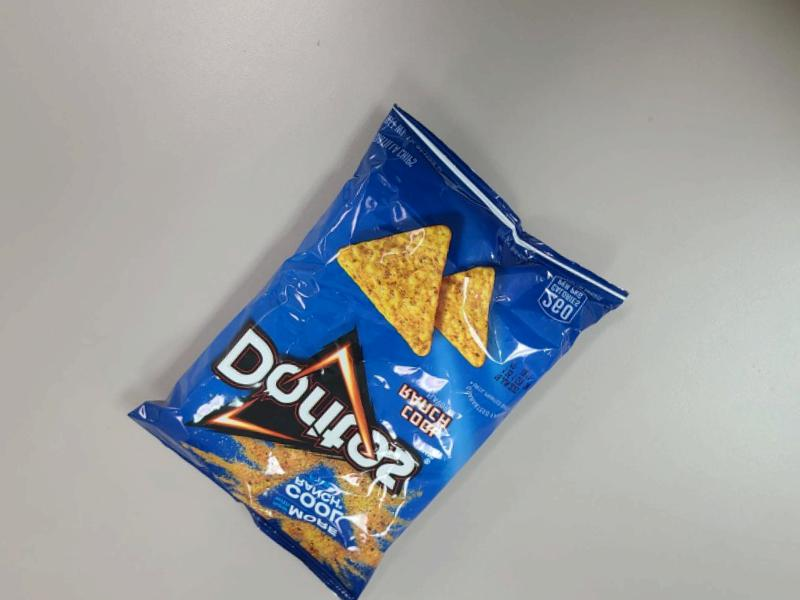doritos: (119, 144, 618, 600)
